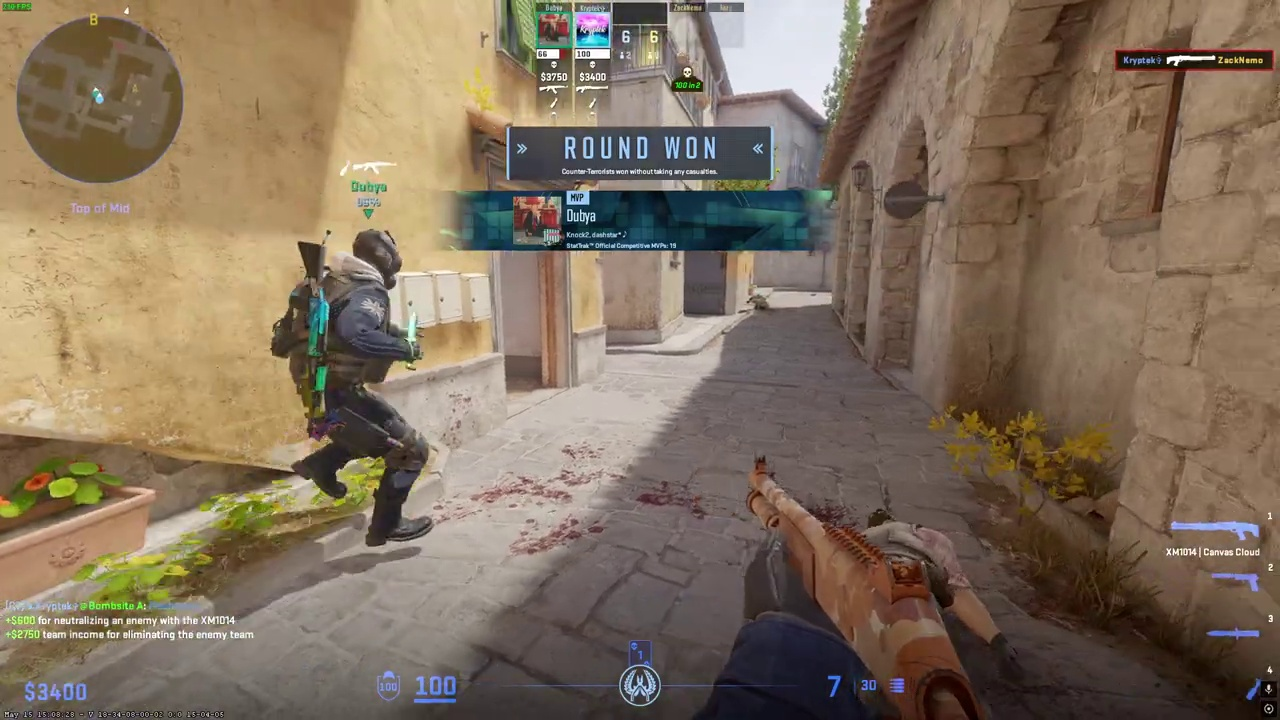CT: (286, 228, 433, 547)
